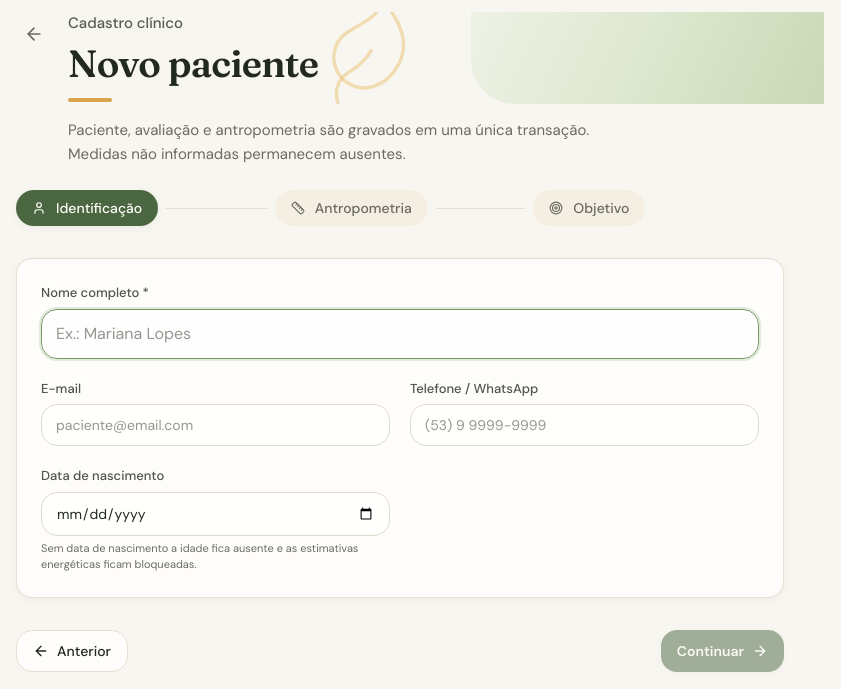
Test case: PatientWizard › keeps the live reading empty until both measures exist
Type "Mariana Lopes" into the field labelled "Nome completo *". click: (400, 334)
box: x1=41 y1=309 x2=759 y2=359
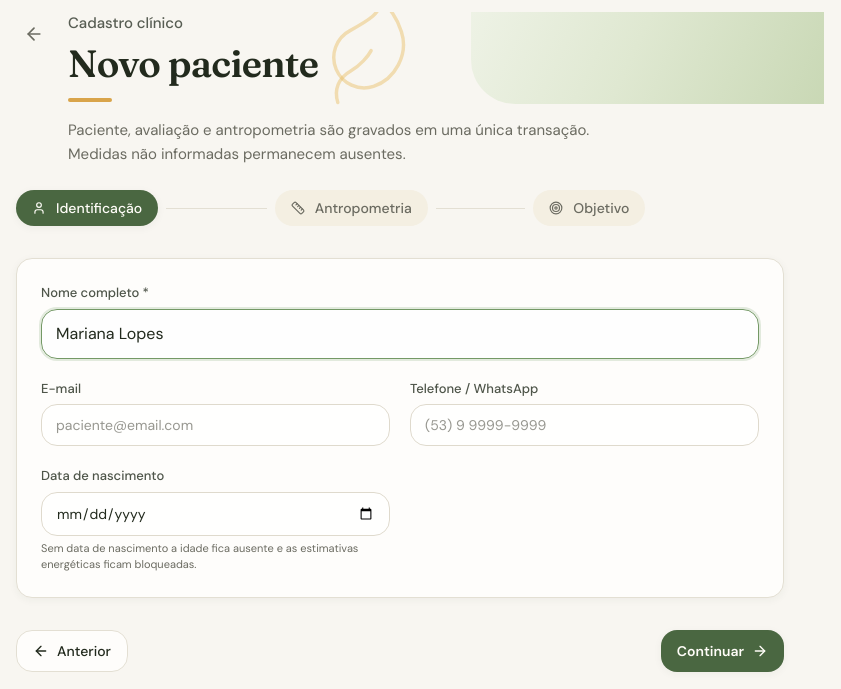
Click the button "Continuar". click: (722, 651)
box: x1=661 y1=630 x2=784 y2=672
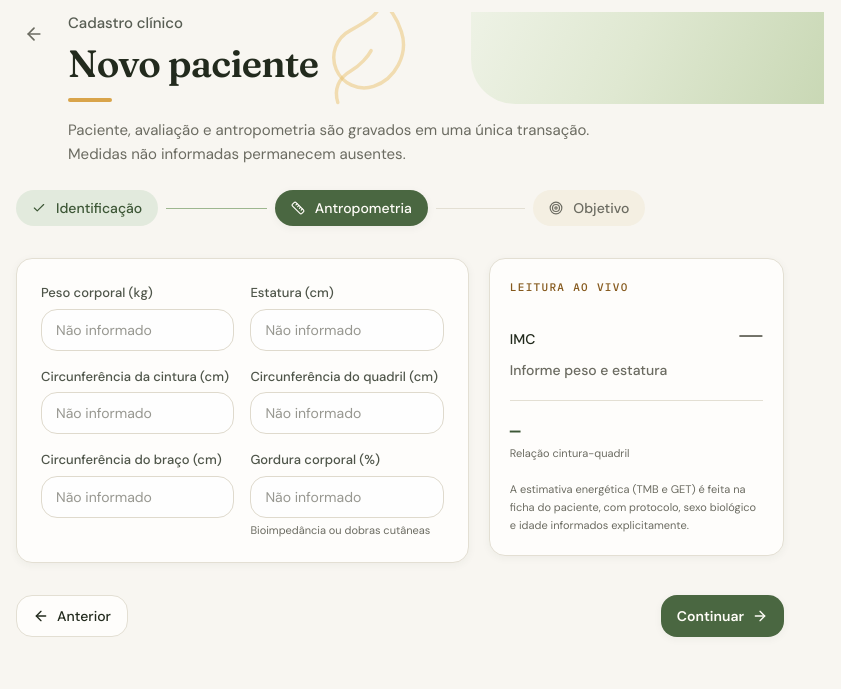
Result: the text "Informe peso e estatura" is shown at x1=510 y1=361 x2=667 y2=379
Type "68" into the field labelled "Peso corporal (kg)". click: (138, 330)
box: x1=41 y1=309 x2=234 y2=351
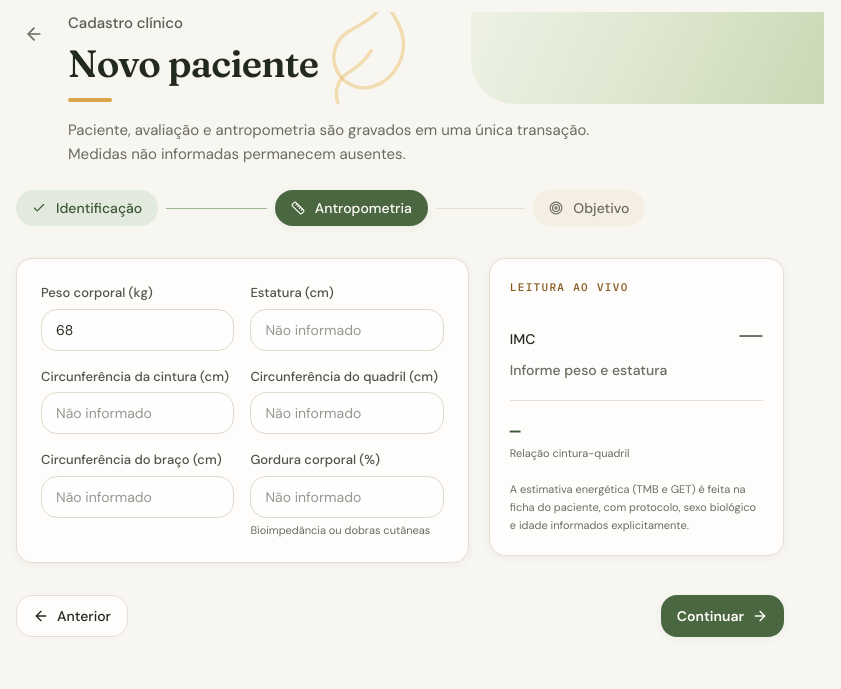
Result: the text "Informe peso e estatura" is shown at x1=510 y1=361 x2=667 y2=379
Type "168" into the field labelled "Estatura (cm)". click: (347, 330)
box: x1=250 y1=309 x2=444 y2=351
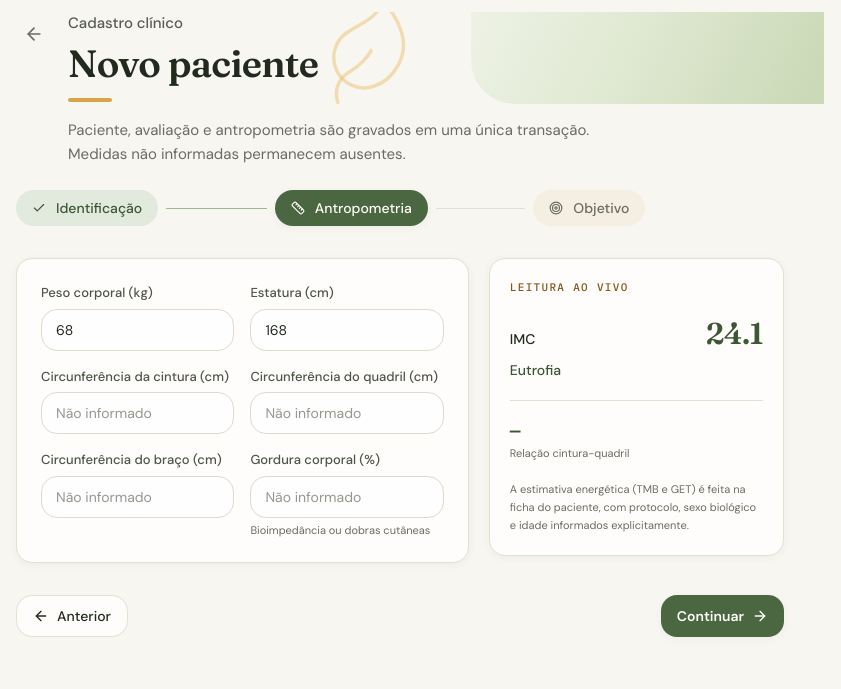
Result: the text "Eutrofia" is shown at x1=510 y1=361 x2=561 y2=379
